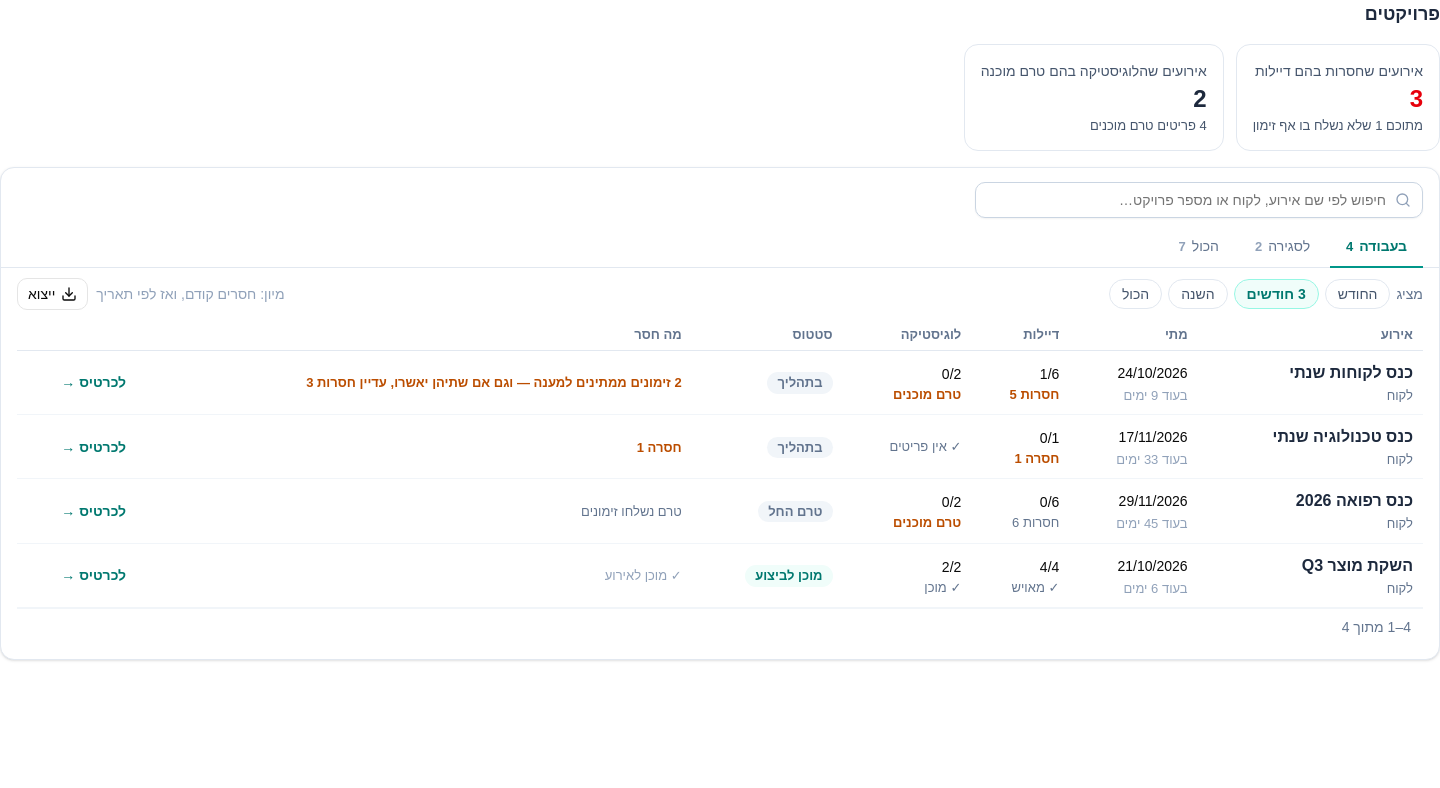
Test case: ProjectsPage — לשונית "לסגירה" (S-18: המצב מהכתובת) › לחיצה על לשונית כותבת לכתובת — מעבר ל"הכול" מדליק את הגלולות
This screenshot has width=1440, height=788.
Expected: the table with test id "projects-table" is shown, 17,320 -> 1423,608
Click the tab with test id "projects-tab-all". click: coordinates (1199, 247)
box: 1162,226 -> 1235,268
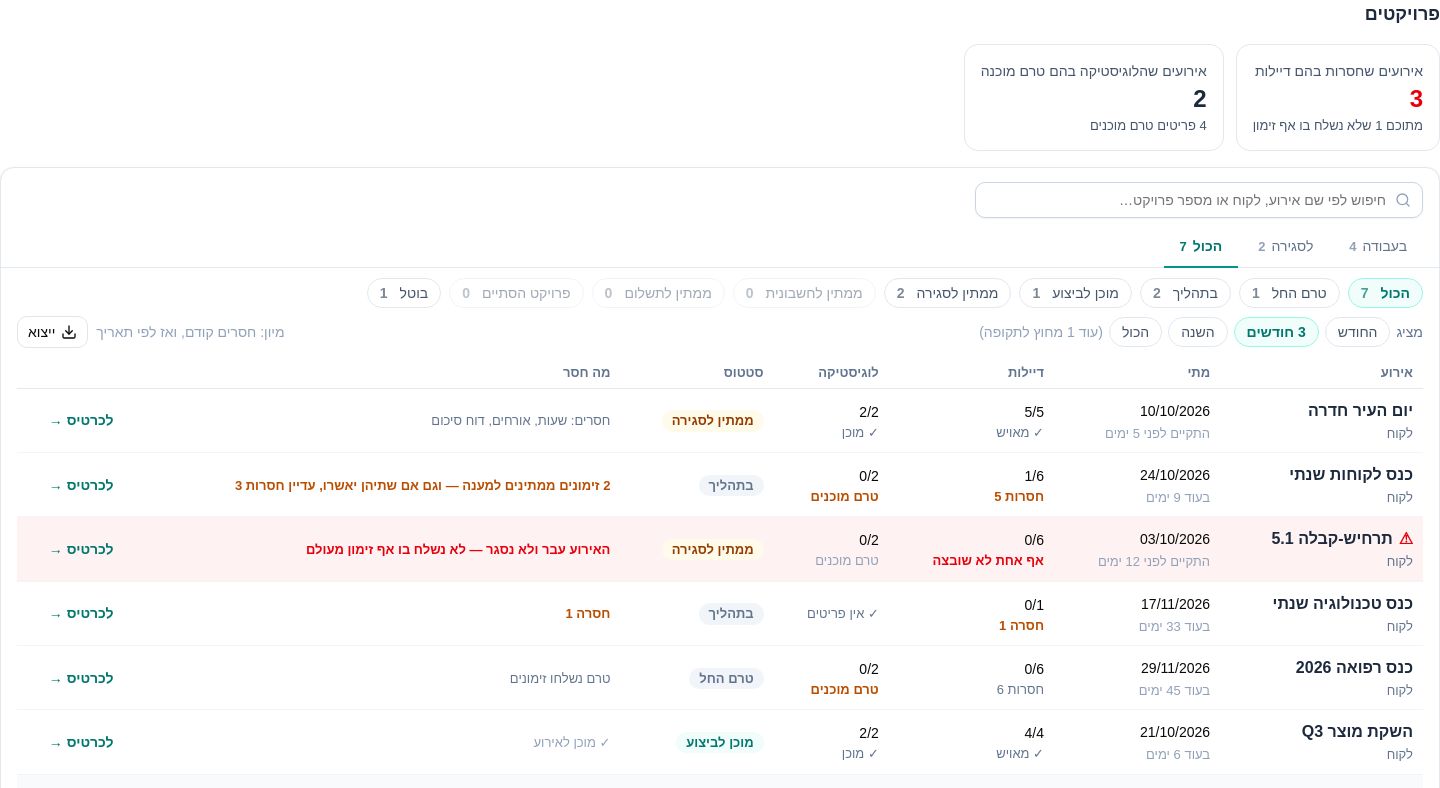
Expected: the button with test id "projects-pill-all" is shown, 1348,278 -> 1423,308
